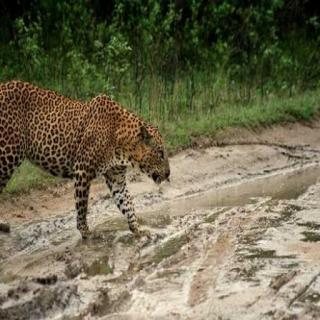Leopard: (14, 52, 191, 247)
